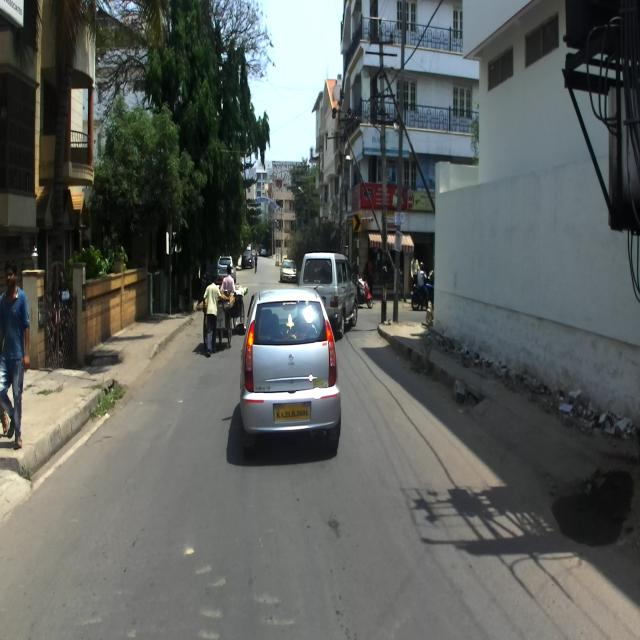car ahead at: (238, 285, 344, 448), (0, 263, 34, 444)
